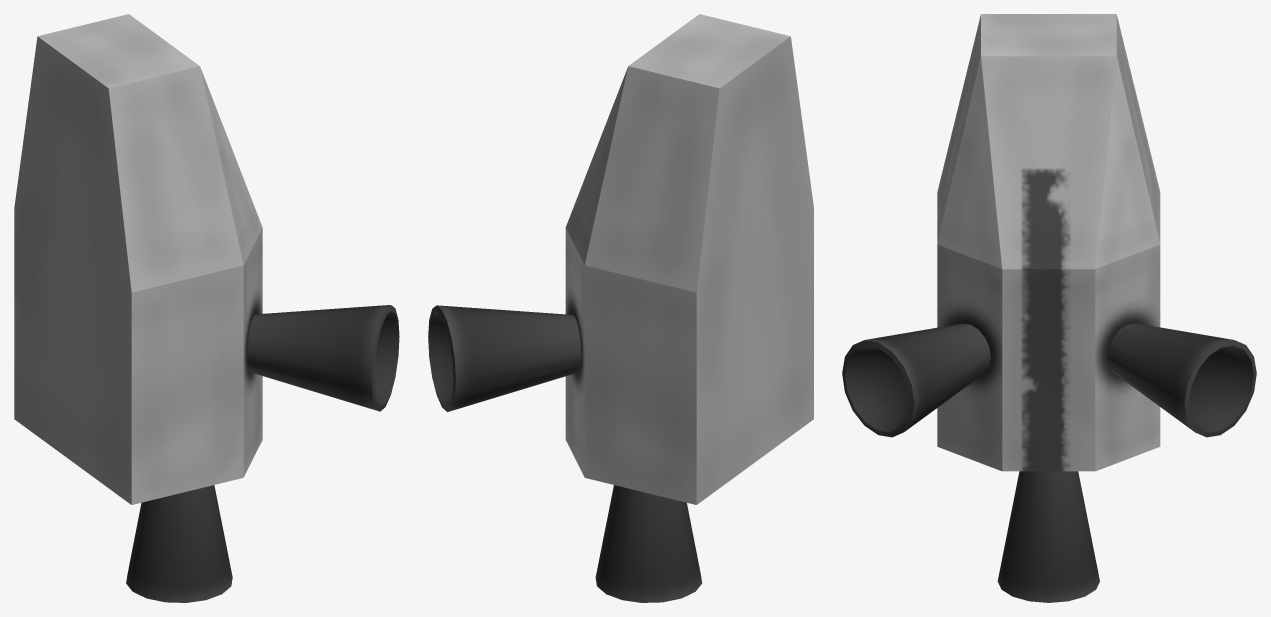
Rendered from RCSblockE.dae.
3 views of the same model, side by side, from view 1: azimuth 30°, elevation 25°; view 2: azimuth 150°, elevation 25°; view 3: azimuth 270°, elevation 25° (orthographic). The views are drawn at different scales.
Parts seen in each view (by area): view 1: RCSblock, Thruster2, Thruster; view 2: RCSblock, Thruster1, Thruster; view 3: RCSblock, Thruster1, Thruster2, Thruster.
Boxes of the visible parts, left/top/right/bottom form: RCSblock: left=14, top=14, right=262, bottom=504; Thruster2: left=247, top=305, right=399, bottom=411; Thruster: left=126, top=485, right=232, bottom=602; RCSblock: left=565, top=14, right=813, bottom=504; Thruster1: left=428, top=305, right=581, bottom=411; Thruster: left=595, top=485, right=702, bottom=602; RCSblock: left=937, top=14, right=1160, bottom=471; Thruster1: left=1107, top=323, right=1256, bottom=437; Thruster2: left=842, top=323, right=990, bottom=437; Thruster: left=997, top=471, right=1099, bottom=602.
Size of the model in its own units: 0.0633 by 0.1288 by 0.0932.
